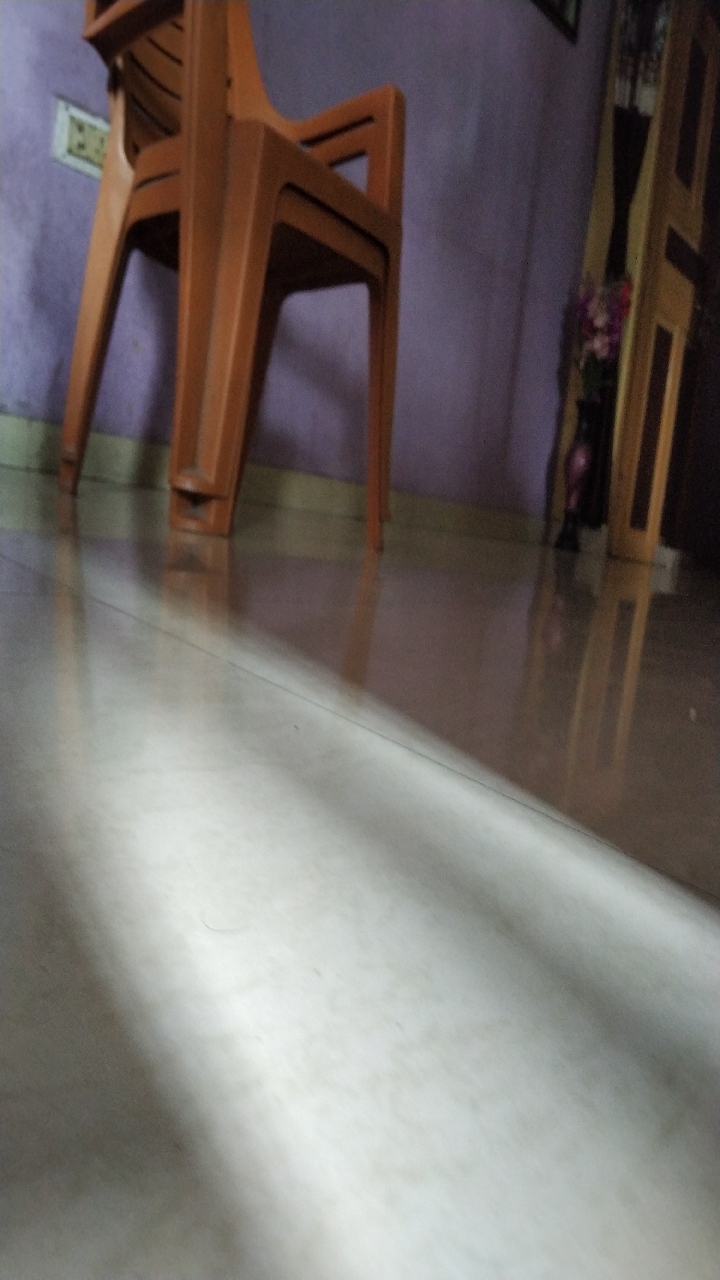Doors: (601, 92, 675, 599)
Furnitures: (48, 145, 420, 569)
